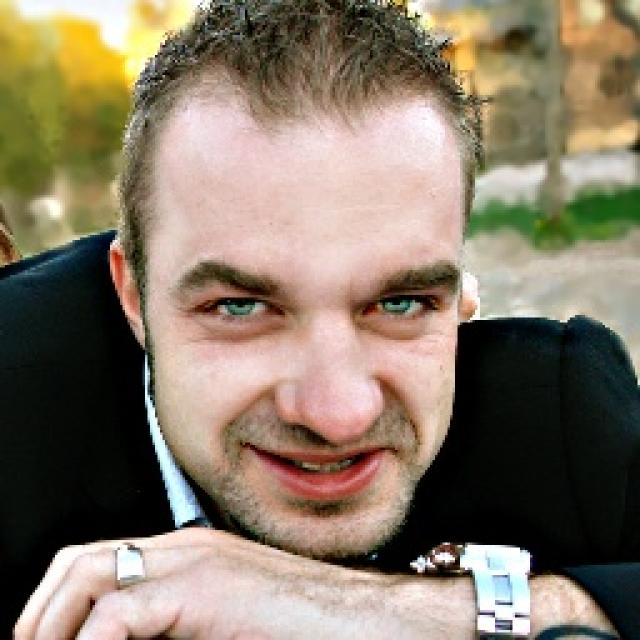earlobe: (127, 313, 151, 353)
eye: (364, 293, 438, 319), (197, 296, 275, 320)
nose: (285, 414, 396, 483)
wholeear: (108, 236, 150, 354)
